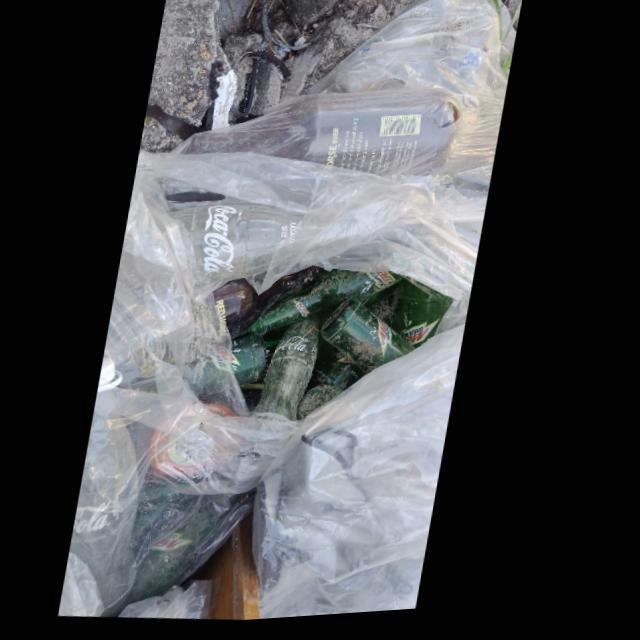glass_bottle: (174, 206, 364, 286), (257, 273, 410, 337), (218, 270, 329, 343), (259, 317, 326, 425), (327, 303, 423, 378), (405, 288, 455, 355), (239, 338, 275, 389)
